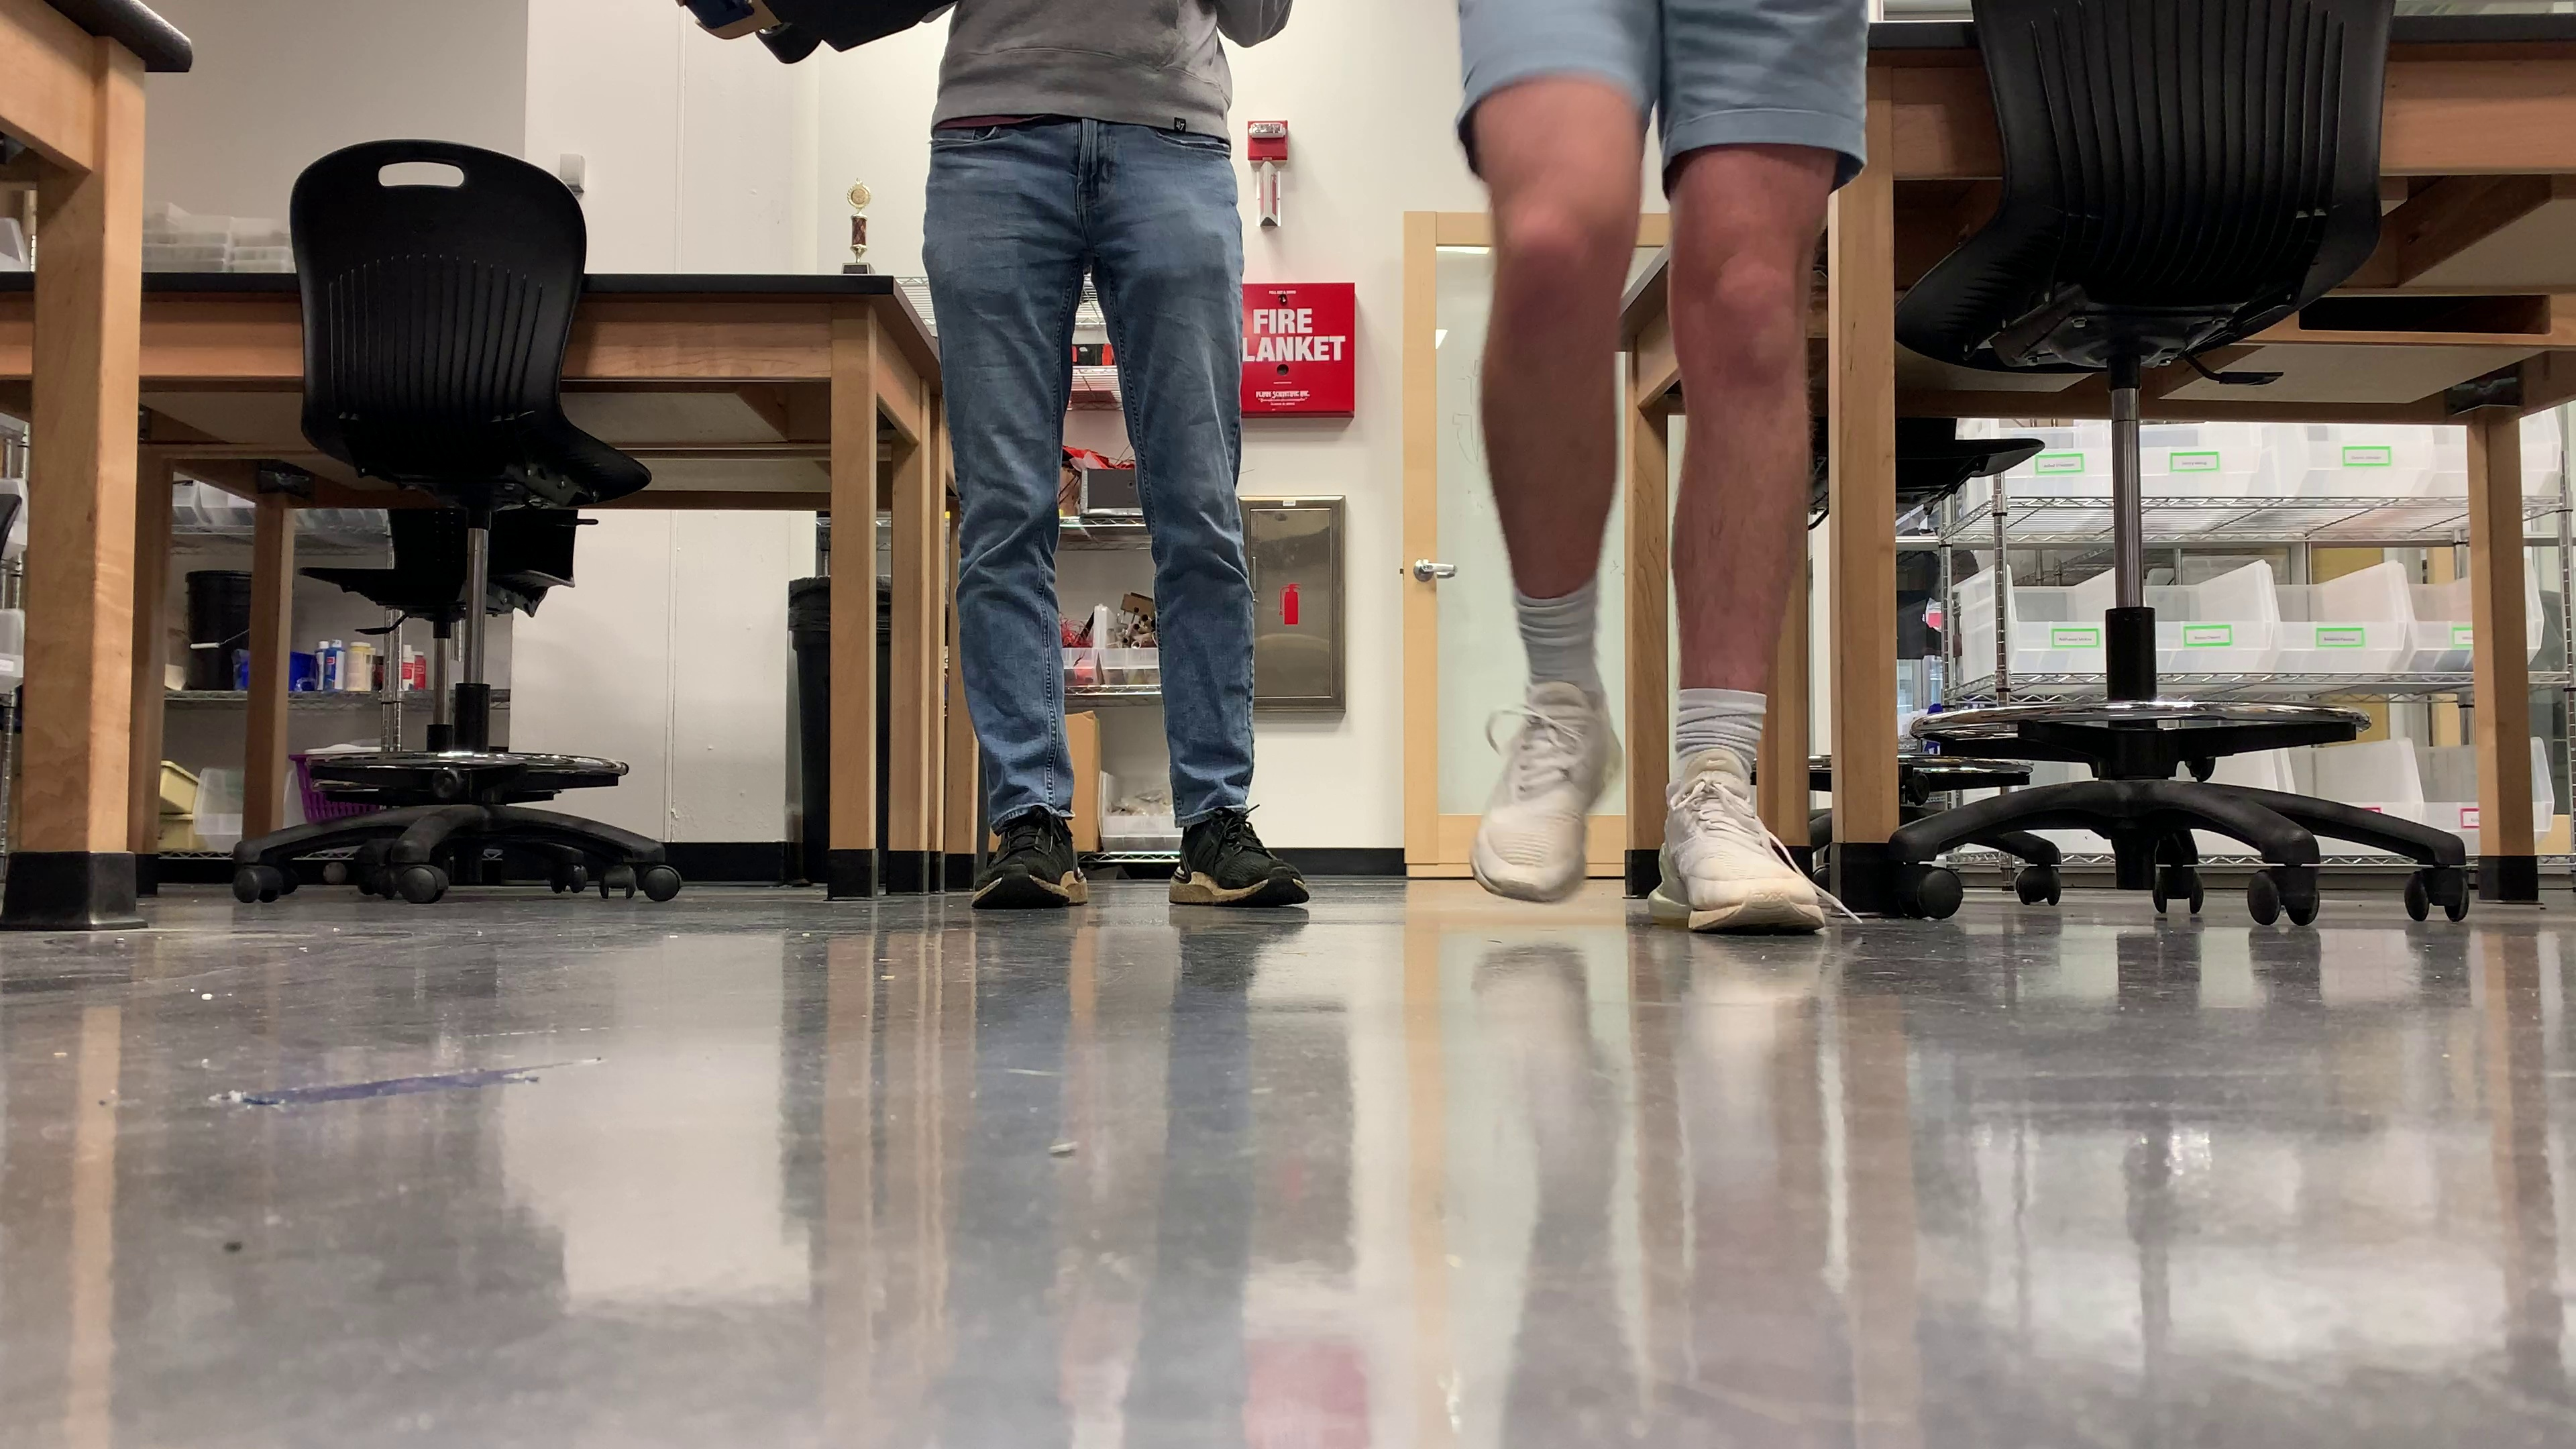shoe: (1472, 683, 1621, 902), (1649, 747, 1822, 932), (1171, 810, 1306, 908), (975, 807, 1086, 911)
